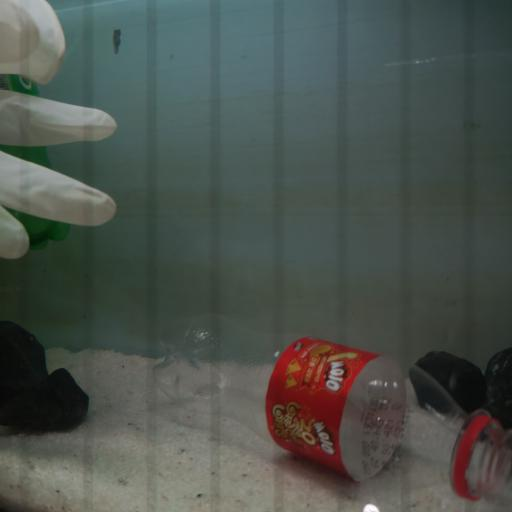glove: (0, 0, 118, 257)
plastic_bottle: (153, 313, 511, 501), (0, 69, 68, 250)
